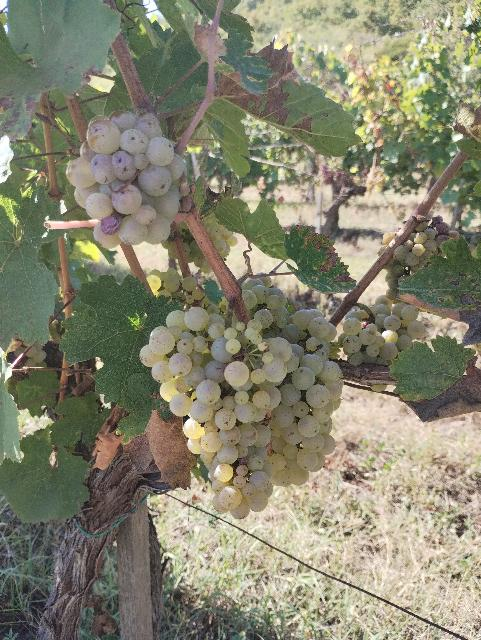grapes: (140, 295, 291, 519), (66, 109, 185, 249), (266, 310, 344, 486), (339, 295, 426, 366)
